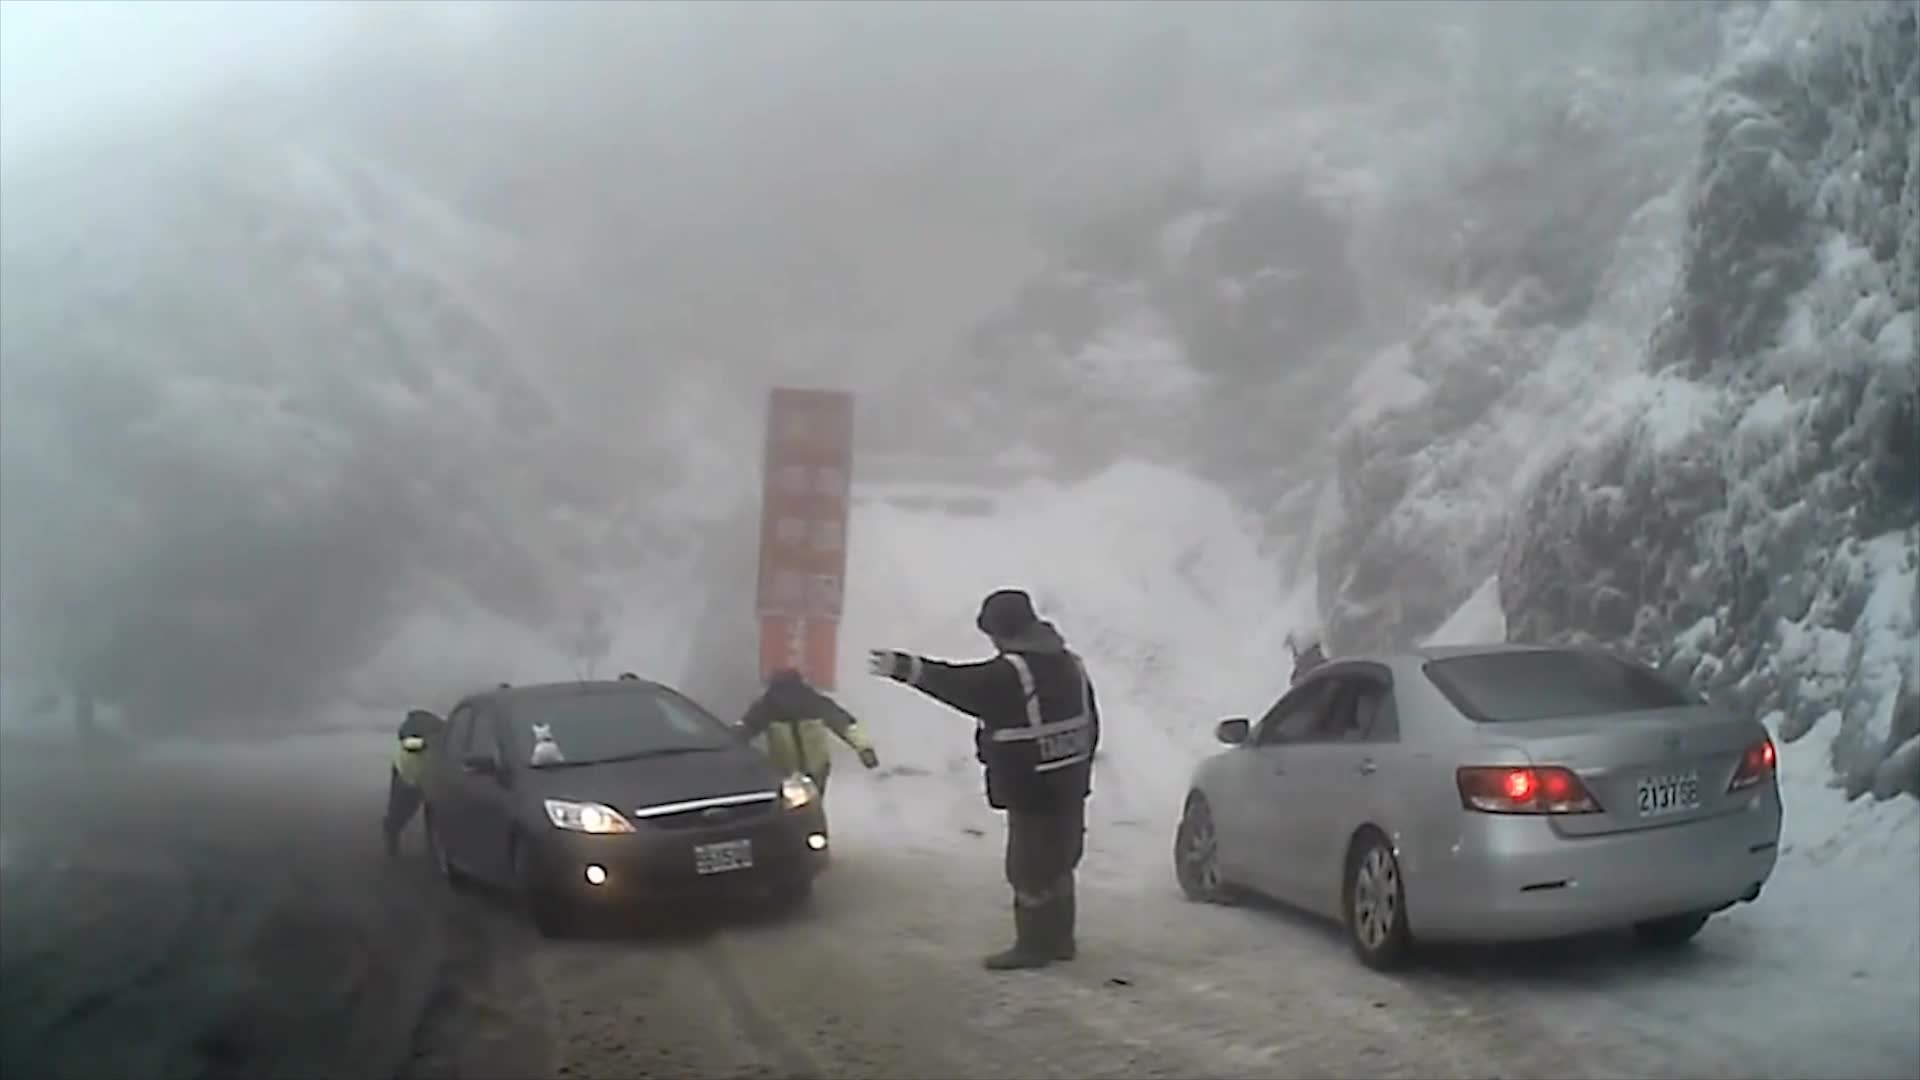pedestrian: (862, 589, 1103, 971), (732, 663, 880, 870), (1279, 624, 1349, 826), (382, 711, 470, 857)
vehicle: (1173, 644, 1783, 971), (419, 675, 831, 941)
